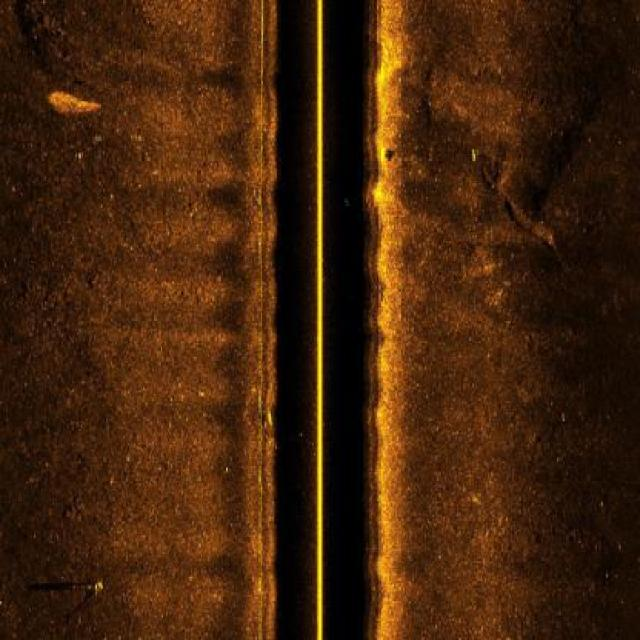mine: (59, 572, 110, 599), (372, 140, 400, 165), (261, 408, 282, 432), (470, 142, 484, 164)
